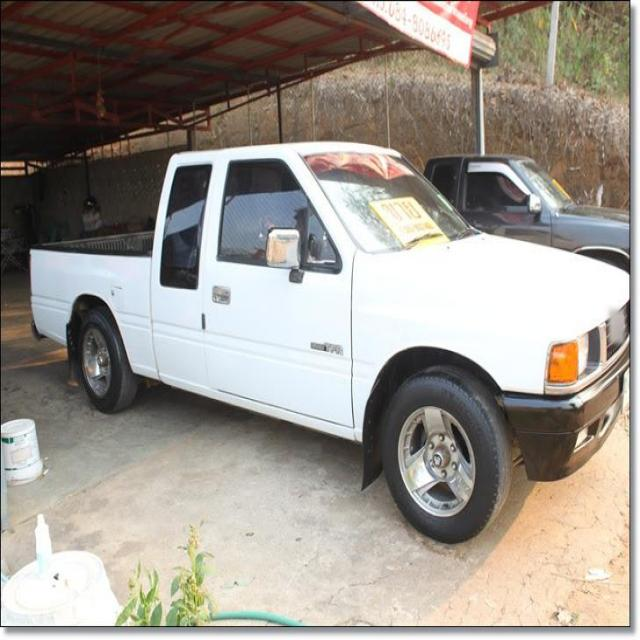front_bumper: (502, 345, 630, 481)
front_glass: (304, 153, 483, 254)
front_right_door: (203, 143, 357, 430)
front_right_light: (544, 331, 590, 385)
hood: (364, 233, 630, 336)
right_mirror: (265, 227, 301, 267)
trunk: (30, 247, 161, 382)
wheel: (77, 304, 513, 543)
